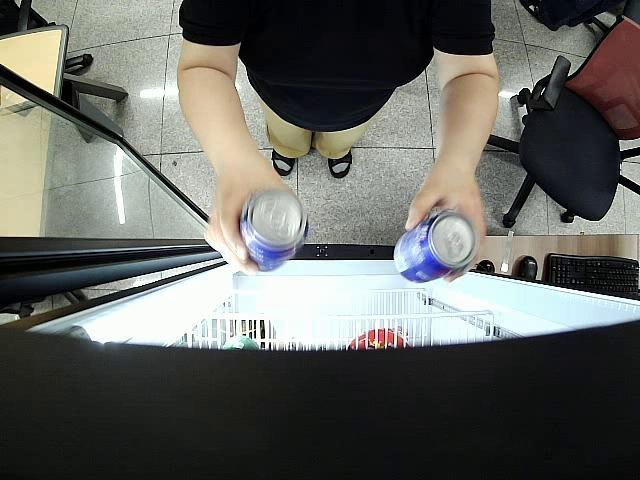14_welchsGrape: (393, 211, 478, 282), (238, 190, 307, 274)
